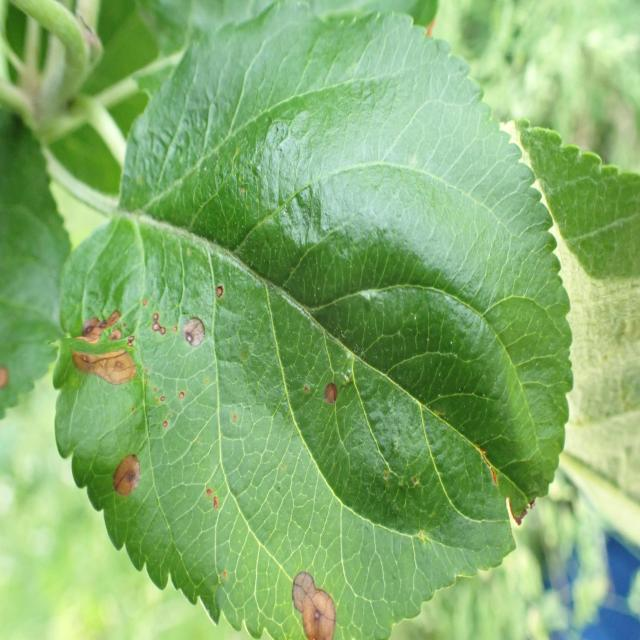Black Rot: (58, 295, 138, 395), (480, 453, 550, 564), (270, 553, 351, 640), (138, 371, 203, 439), (190, 482, 245, 536), (102, 452, 148, 504), (314, 363, 344, 434), (206, 562, 245, 606), (145, 301, 179, 346), (181, 313, 208, 359), (222, 410, 258, 444), (210, 281, 234, 304)
